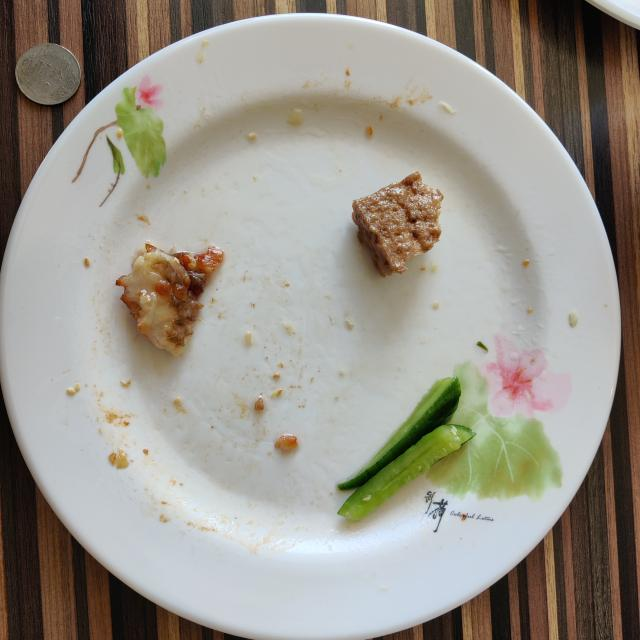Kabayaki sea bream fillet: (116, 244, 224, 355)
coin: (15, 44, 81, 105)
cucumber: (338, 376, 476, 520)
egg tofu: (352, 171, 444, 276)
